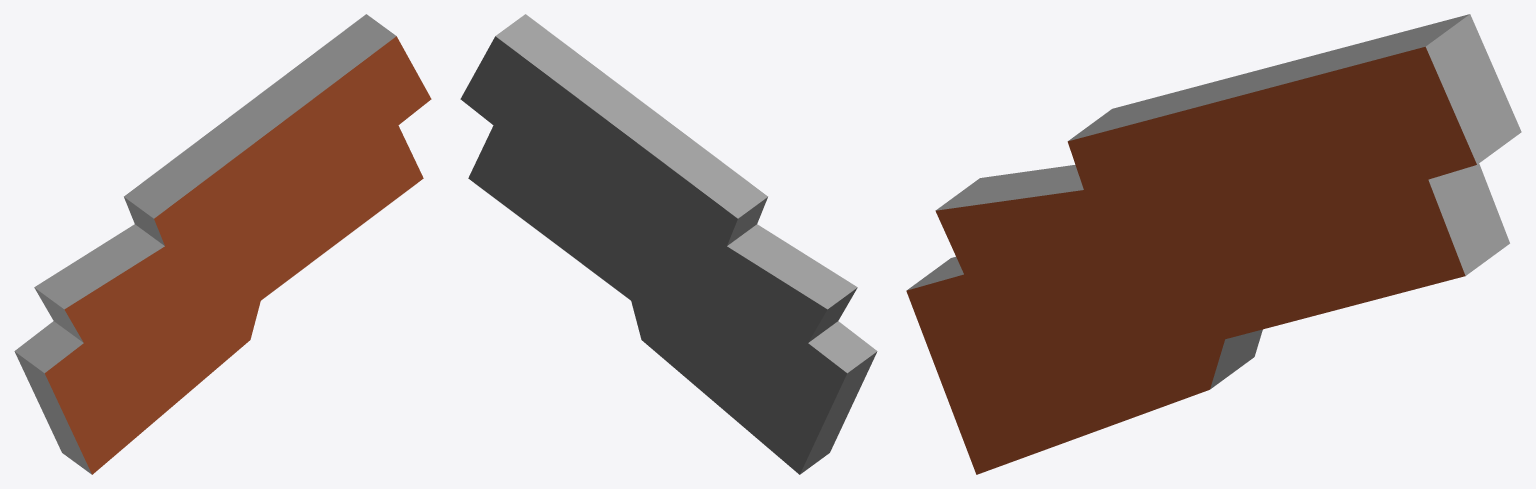
The model's file is construction_1566_assumed_A_Casa_h6m.obj.
The picture shows the model from 3 angles, left to right: view 1: azimuth 30°, elevation 25°; view 2: azimuth 150°, elevation 25°; view 3: azimuth 330°, elevation 25°; orthographic projection. The views are drawn at different scales.
Parts seen in each view (by area): view 1: construction_1566_assumed_A_Casa; view 2: construction_1566_assumed_A_Casa; view 3: construction_1566_assumed_A_Casa.
Part boxes in pixels (x1=…): construction_1566_assumed_A_Casa: x1=14, y1=14, x2=431, y2=474; construction_1566_assumed_A_Casa: x1=460, y1=14, x2=877, y2=474; construction_1566_assumed_A_Casa: x1=906, y1=14, x2=1521, y2=474.
Size of the model in its own units: 44.32 by 39.9 by 6.
